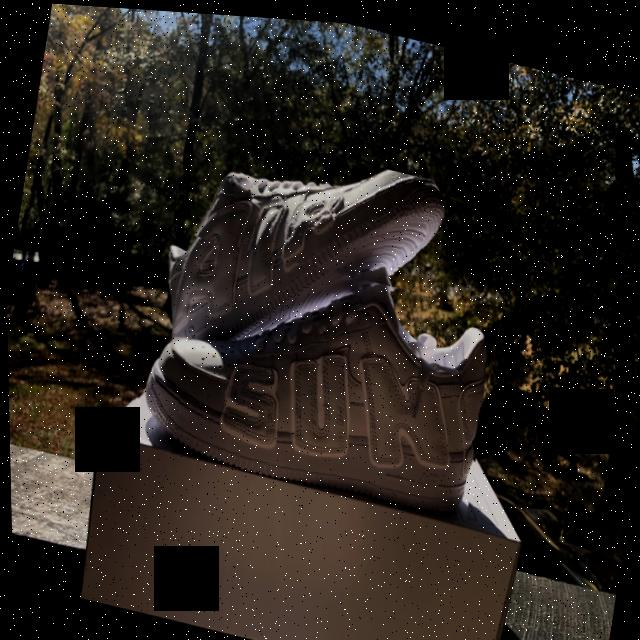shoe: (130, 225, 501, 521), (150, 116, 456, 388)
